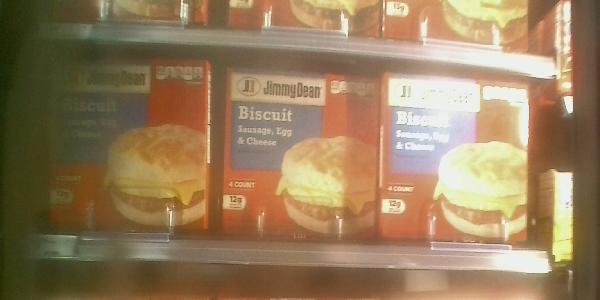icecream: (37, 54, 207, 237), (223, 65, 375, 256), (381, 66, 531, 246)
